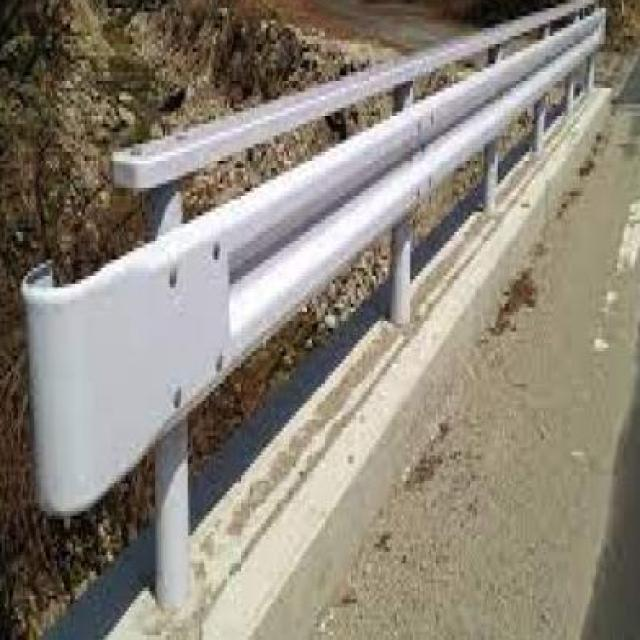Guard rail: (20, 0, 609, 635)
